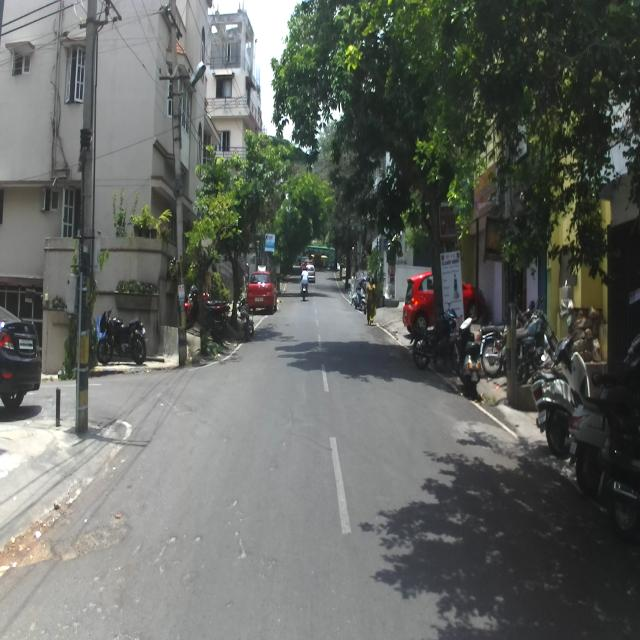electric pole ahead at: (69, 0, 111, 447), (160, 0, 197, 366)
